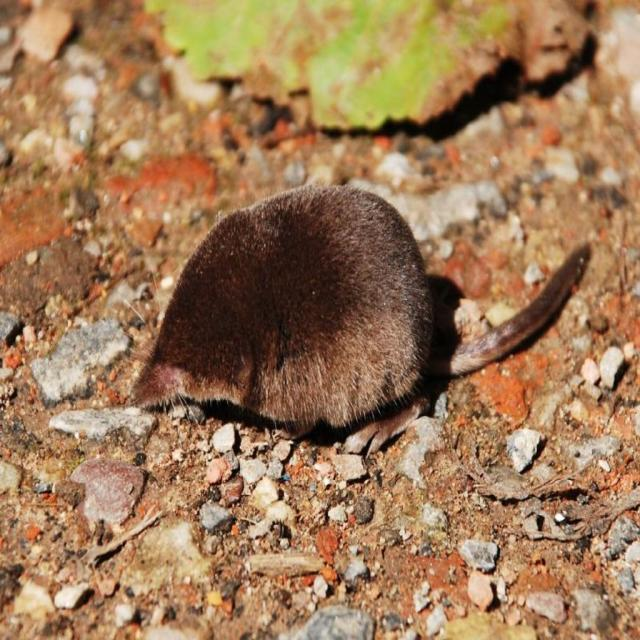rat: (124, 184, 604, 458)
